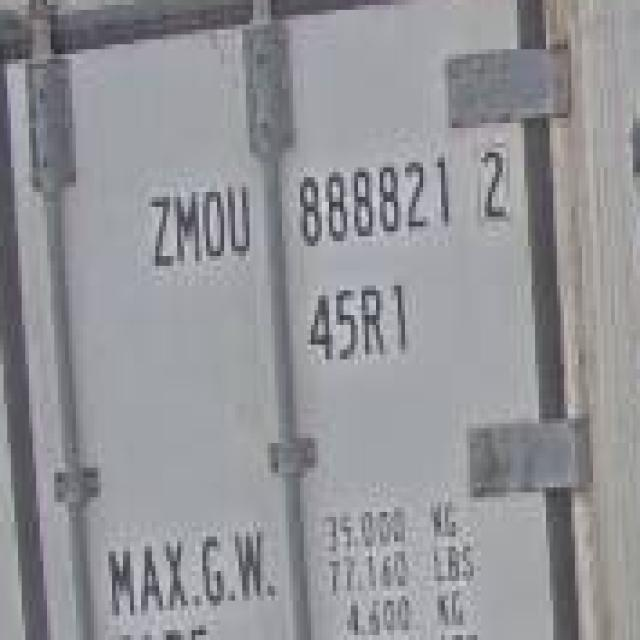dv: (470, 138, 514, 234)
owner: (140, 174, 262, 278)
serial: (289, 149, 456, 247)
size: (300, 276, 424, 364)
